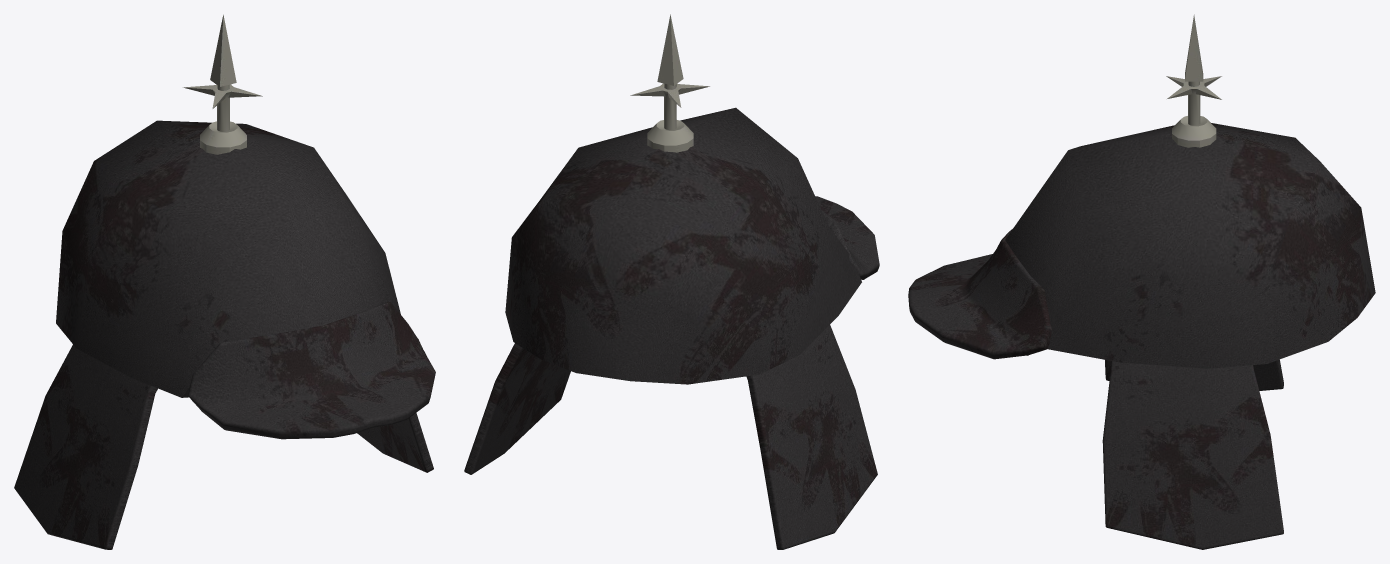
File: war_cap.glb
The picture shows the model from 3 angles, left to right: view 1: azimuth 30°, elevation 25°; view 2: azimuth 150°, elevation 25°; view 3: azimuth 270°, elevation 25°; orthographic projection. The views are drawn at different scales.
Parts seen in each view (by area): view 1: hood.001_Plate.008; view 2: hood.001_Plate.008; view 3: hood.001_Plate.008.
Part boxes in pixels (x1,y1,x2,y2): hood.001_Plate.008: (14, 14, 435, 549); hood.001_Plate.008: (464, 14, 879, 549); hood.001_Plate.008: (908, 14, 1375, 549).
Bounding box in the file's own units: 1 × 1.35 × 1.24.
Materials: 1 (1 with a texture image).
